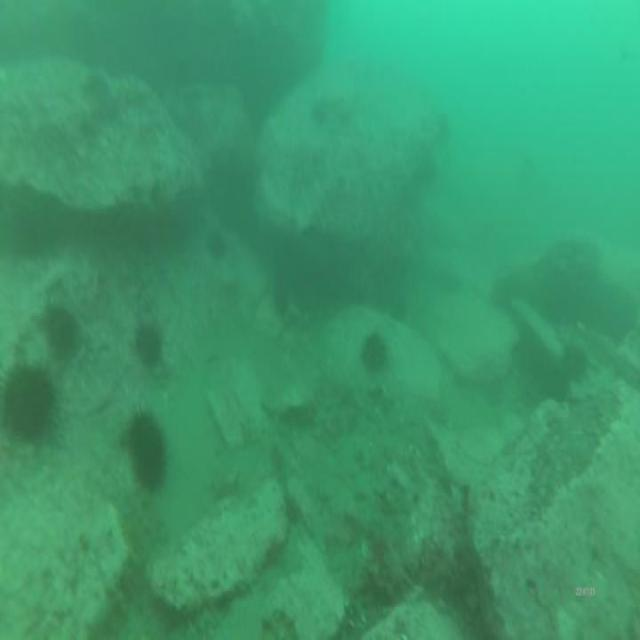echinus: (0, 357, 63, 449), (120, 404, 171, 502), (38, 296, 86, 372), (130, 308, 166, 373), (358, 321, 391, 381), (202, 221, 228, 267)
